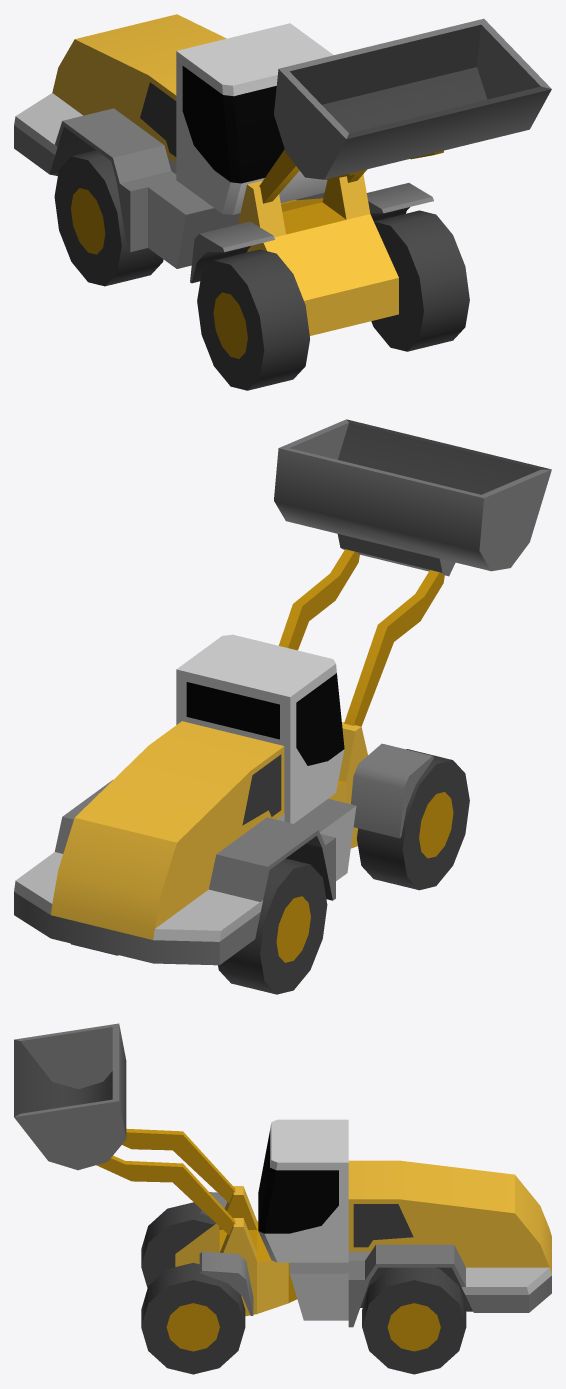
The model's file is spec_Liebherr_L566_v3.glb.
3 views of the same model, one above another, from view 1: azimuth 30°, elevation 25°; view 2: azimuth 150°, elevation 25°; view 3: azimuth 270°, elevation 25° (orthographic). The views are drawn at different scales.
Parts seen in each view (by area): view 1: spec_Liebherr_L566_v3; view 2: spec_Liebherr_L566_v3; view 3: spec_Liebherr_L566_v3.
Part boxes in pixels (x1,y1,x2,y2): spec_Liebherr_L566_v3: [14, 14, 551, 390]; spec_Liebherr_L566_v3: [14, 419, 551, 994]; spec_Liebherr_L566_v3: [14, 1023, 551, 1374].
Bounding box in the file's own units: 3.06 × 4.92 × 8.77.
Materials: 1 (1 with a texture image).
